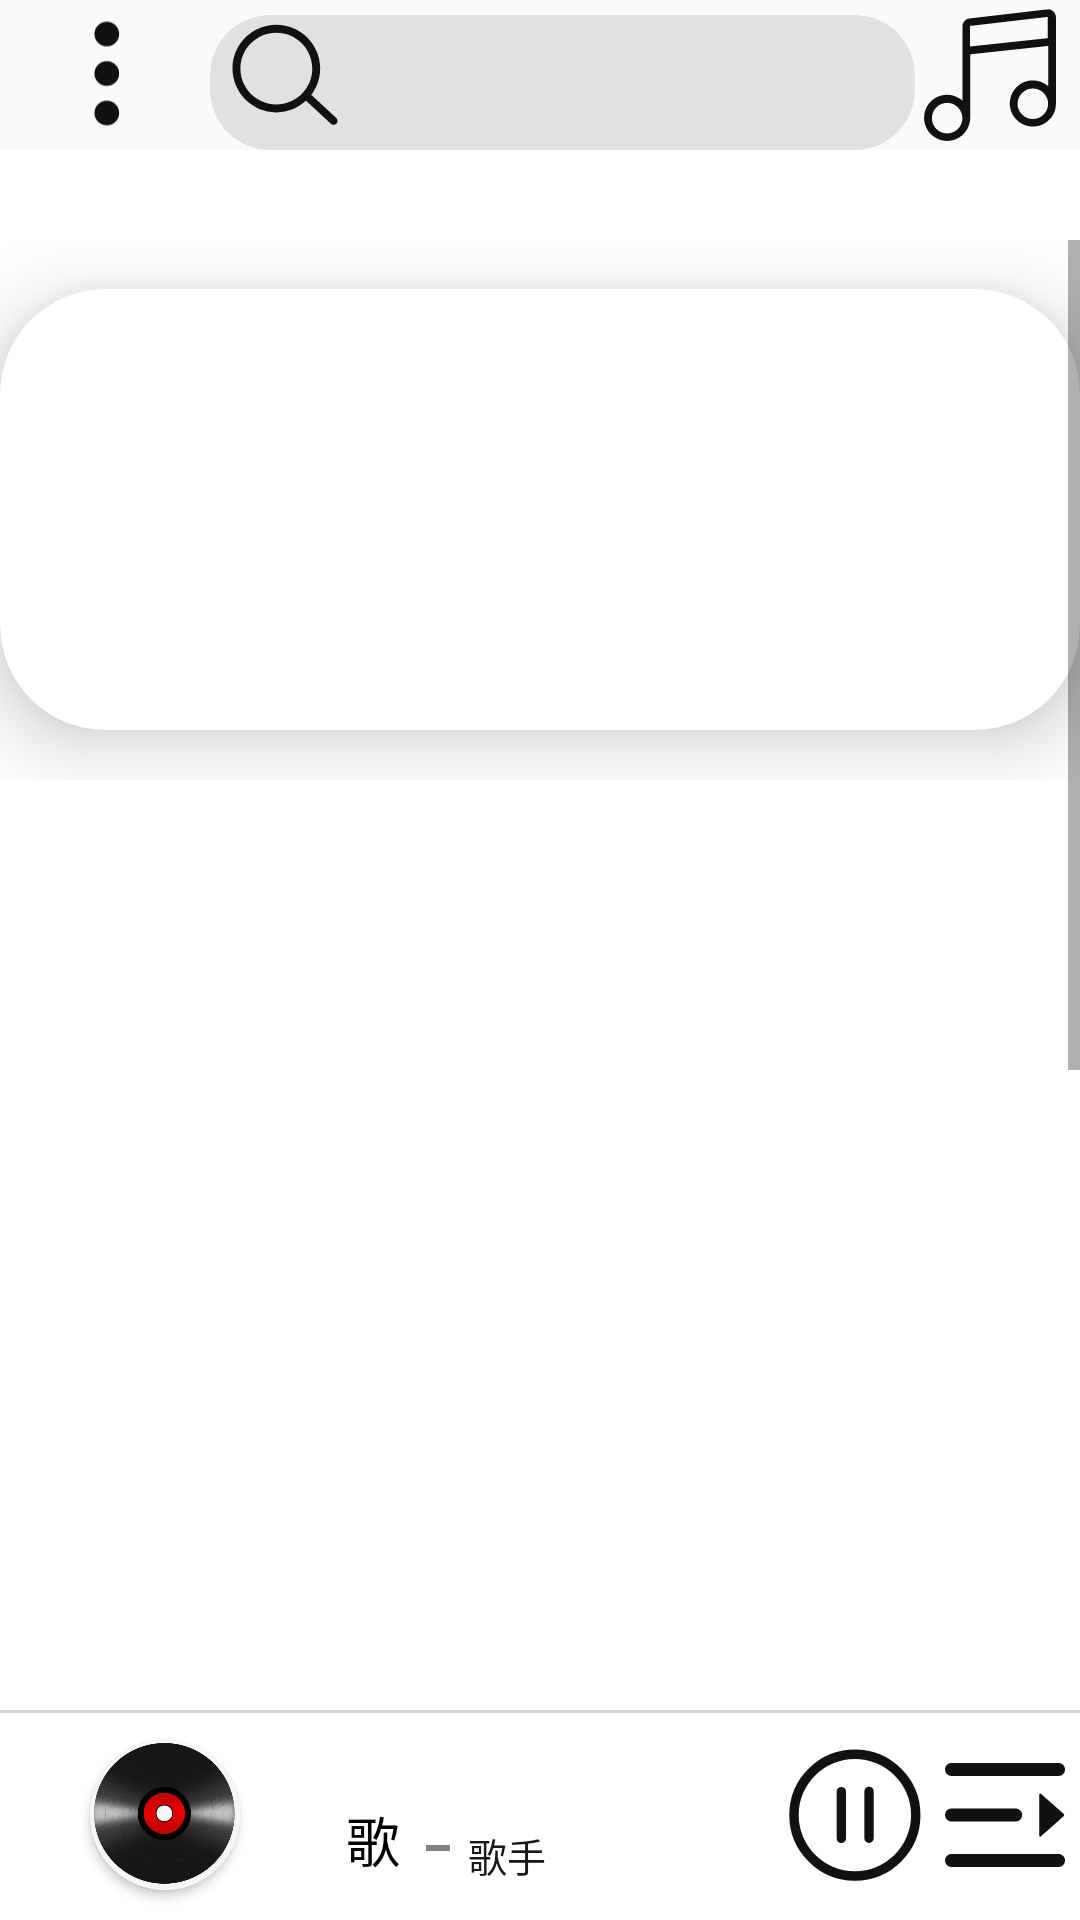

Where icons sit on this 1080w x 1920h app screen, as (x1, y1, x2, y2):
list: (945, 1763, 1065, 1867)
music: (924, 9, 1056, 141)
nemu: (94, 21, 120, 126)
puase: (789, 1749, 921, 1881)
search: (232, 24, 338, 125)
